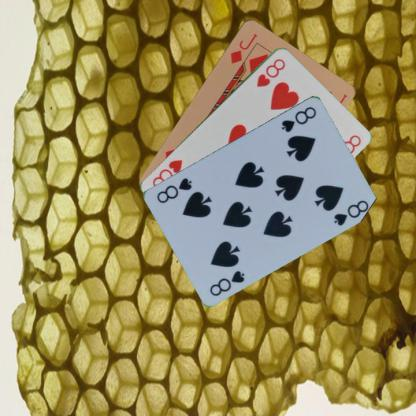8h: (254, 56, 286, 88)
8s: (278, 104, 318, 134), (207, 267, 246, 297)
Jd: (227, 30, 259, 65)
